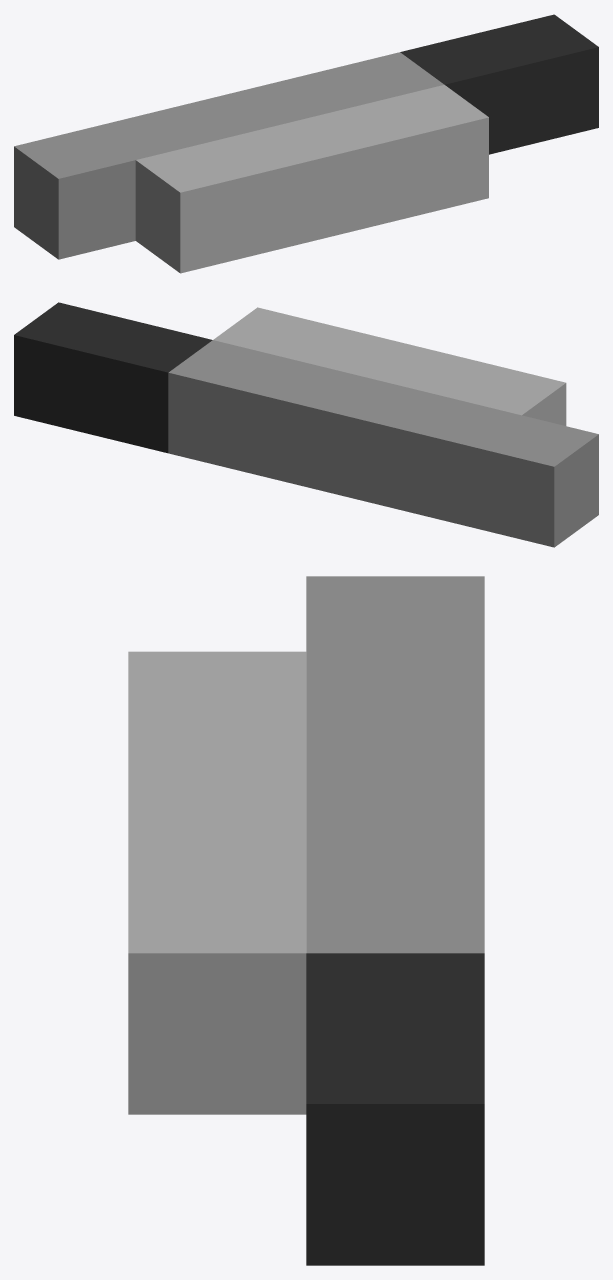
File: KnifeSmall.obj
3 renders of one model, top to bottom at view 1: azimuth 30°, elevation 25°; view 2: azimuth 150°, elevation 25°; view 3: azimuth 270°, elevation 25°, orthographic. The views are drawn at different scales.
Parts seen in each view (by area): view 1: KnifeSmall; view 2: KnifeSmall; view 3: KnifeSmall.
Boxes of the visible parts, left/top/right/bottom form: KnifeSmall: left=14, top=14, right=598, bottom=273; KnifeSmall: left=14, top=302, right=598, bottom=547; KnifeSmall: left=128, top=576, right=484, bottom=1265.
Size of the model in its own units: 7 by 1 by 2.
Materials: 1 (1 with a texture image).
